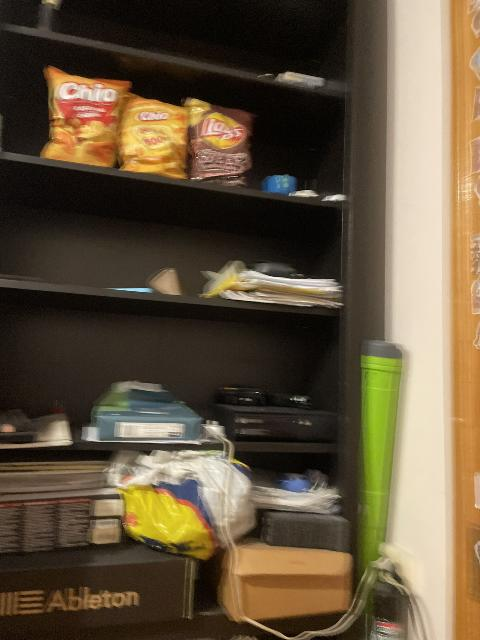Chio Cascaval 125g: (39, 65, 131, 168)
Chio Hula Hoops Cheese 70g: (115, 93, 193, 176)
Lays Beef Grilled Ribs 125g: (184, 98, 258, 180)
